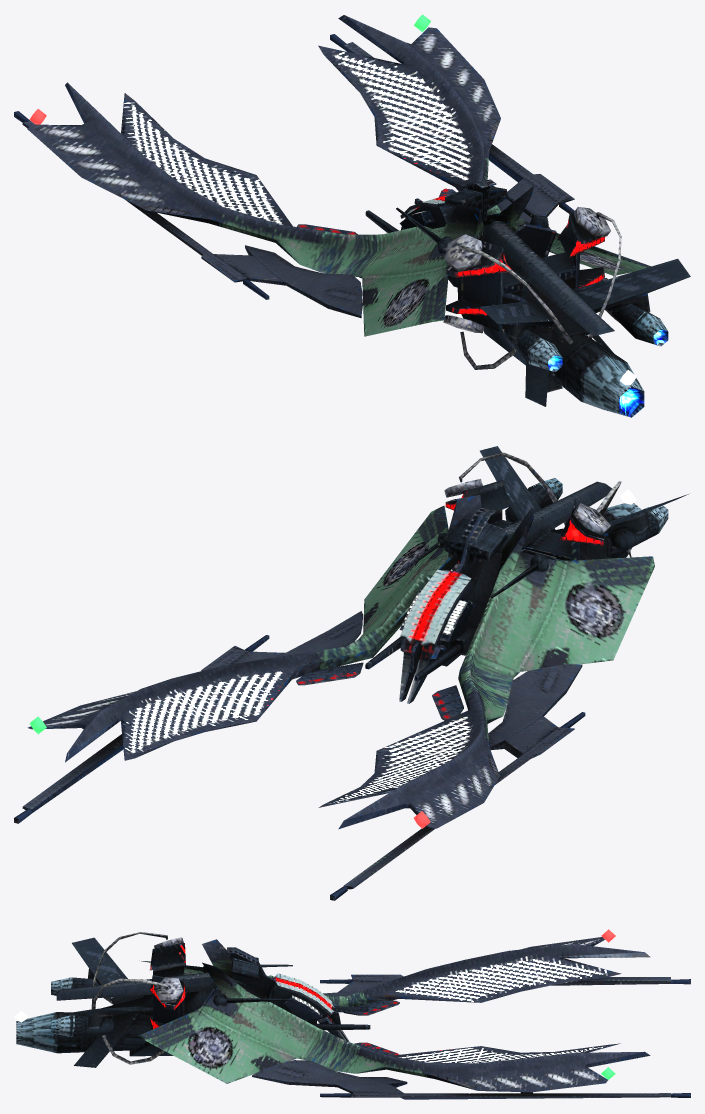
File: demaner.glb
The picture shows the model from 3 angles, top to bottom: view 1: azimuth 30°, elevation 25°; view 2: azimuth 150°, elevation 25°; view 3: azimuth 270°, elevation 25°; orthographic projection. The views are drawn at different scales.
Visible parts, largest first — view 1: demaner; view 2: demaner; view 3: demaner, addon_navlights.
Part boxes in pixels (bbox=[...]): demaner: bbox=[14, 15, 690, 417]; demaner: bbox=[14, 446, 688, 900]; demaner: bbox=[16, 932, 690, 1099]; addon_navlights: bbox=[14, 929, 615, 1079].
Bounding box in the file's own units: 106 × 34.79 × 206.
4 materials, 1 textured.
